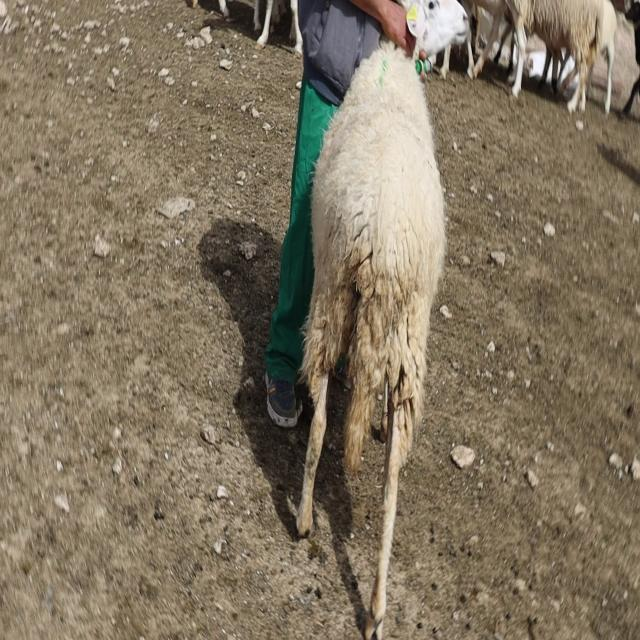Score_4: (296, 0, 471, 639)
